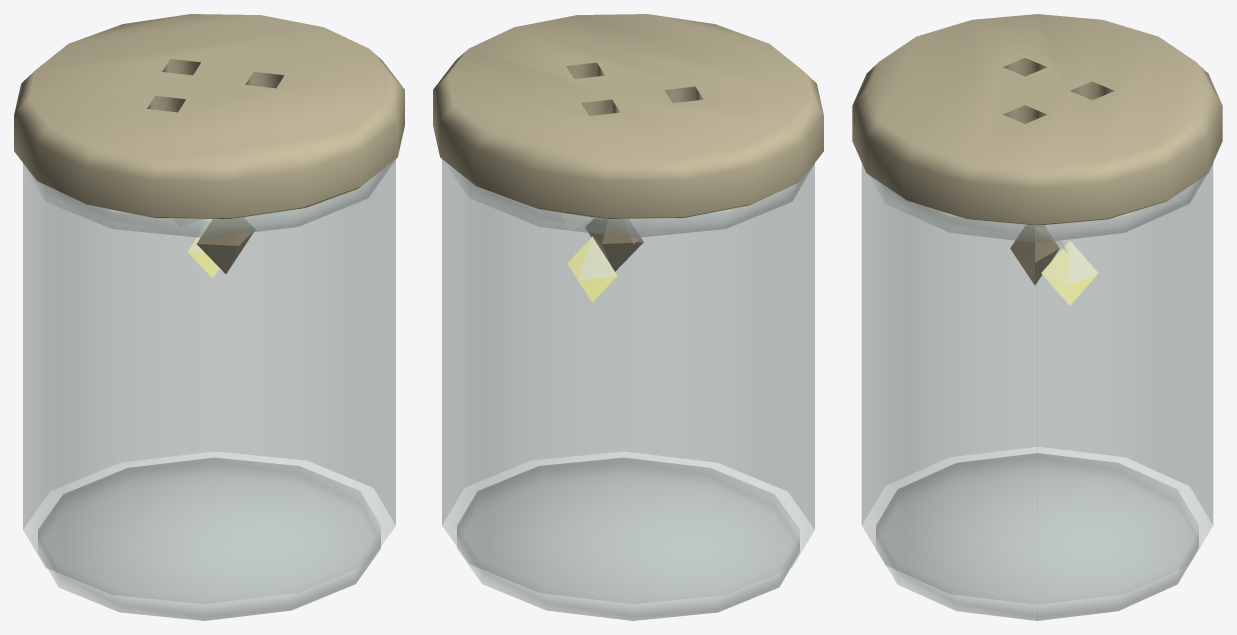
The model's file is FireflyJar.glb.
The picture shows the model from 3 angles, left to right: view 1: azimuth 30°, elevation 25°; view 2: azimuth 150°, elevation 25°; view 3: azimuth 270°, elevation 25°; orthographic projection.
Visible parts, largest first — view 1: FireflyJar_Glass_Jar, FireflyJar_Lid, FireflyJar_Glass_Base_Thickness, FireflyJar_Glass_Top_Rim, FireflyJar_Firefly_Body, FireflyJar_Firefly_Glow_Abdomen; view 2: FireflyJar_Glass_Jar, FireflyJar_Lid, FireflyJar_Glass_Base_Thickness, FireflyJar_Glass_Top_Rim, FireflyJar_Firefly_Body, FireflyJar_Firefly_Glow_Abdomen, FireflyJar_Firefly_Wings; view 3: FireflyJar_Glass_Jar, FireflyJar_Lid, FireflyJar_Glass_Base_Thickness, FireflyJar_Glass_Top_Rim, FireflyJar_Firefly_Glow_Abdomen, FireflyJar_Firefly_Body.
Boxes of the visible parts, bbox=[...] form: FireflyJar_Glass_Jar: bbox=[23, 159, 395, 603]; FireflyJar_Lid: bbox=[14, 14, 404, 219]; FireflyJar_Glass_Base_Thickness: bbox=[38, 458, 380, 620]; FireflyJar_Glass_Top_Rim: bbox=[23, 159, 395, 237]; FireflyJar_Firefly_Body: bbox=[197, 217, 254, 273]; FireflyJar_Firefly_Glow_Abdomen: bbox=[187, 219, 219, 278]; FireflyJar_Glass_Jar: bbox=[442, 159, 814, 603]; FireflyJar_Lid: bbox=[433, 14, 823, 219]; FireflyJar_Glass_Base_Thickness: bbox=[457, 458, 799, 620]; FireflyJar_Glass_Top_Rim: bbox=[442, 159, 814, 237]; FireflyJar_Firefly_Body: bbox=[585, 218, 643, 271]; FireflyJar_Firefly_Glow_Abdomen: bbox=[567, 236, 617, 302]; FireflyJar_Firefly_Wings: bbox=[561, 214, 657, 244]; FireflyJar_Glass_Jar: bbox=[861, 164, 1213, 604]; FireflyJar_Lid: bbox=[852, 14, 1222, 225]; FireflyJar_Glass_Base_Thickness: bbox=[876, 453, 1198, 620]; FireflyJar_Glass_Top_Rim: bbox=[861, 163, 1212, 242]; FireflyJar_Firefly_Glow_Abdomen: bbox=[1041, 241, 1098, 305]; FireflyJar_Firefly_Body: bbox=[1010, 225, 1059, 285].
Size of the model in its own units: 0.316 by 0.405 by 0.297.
